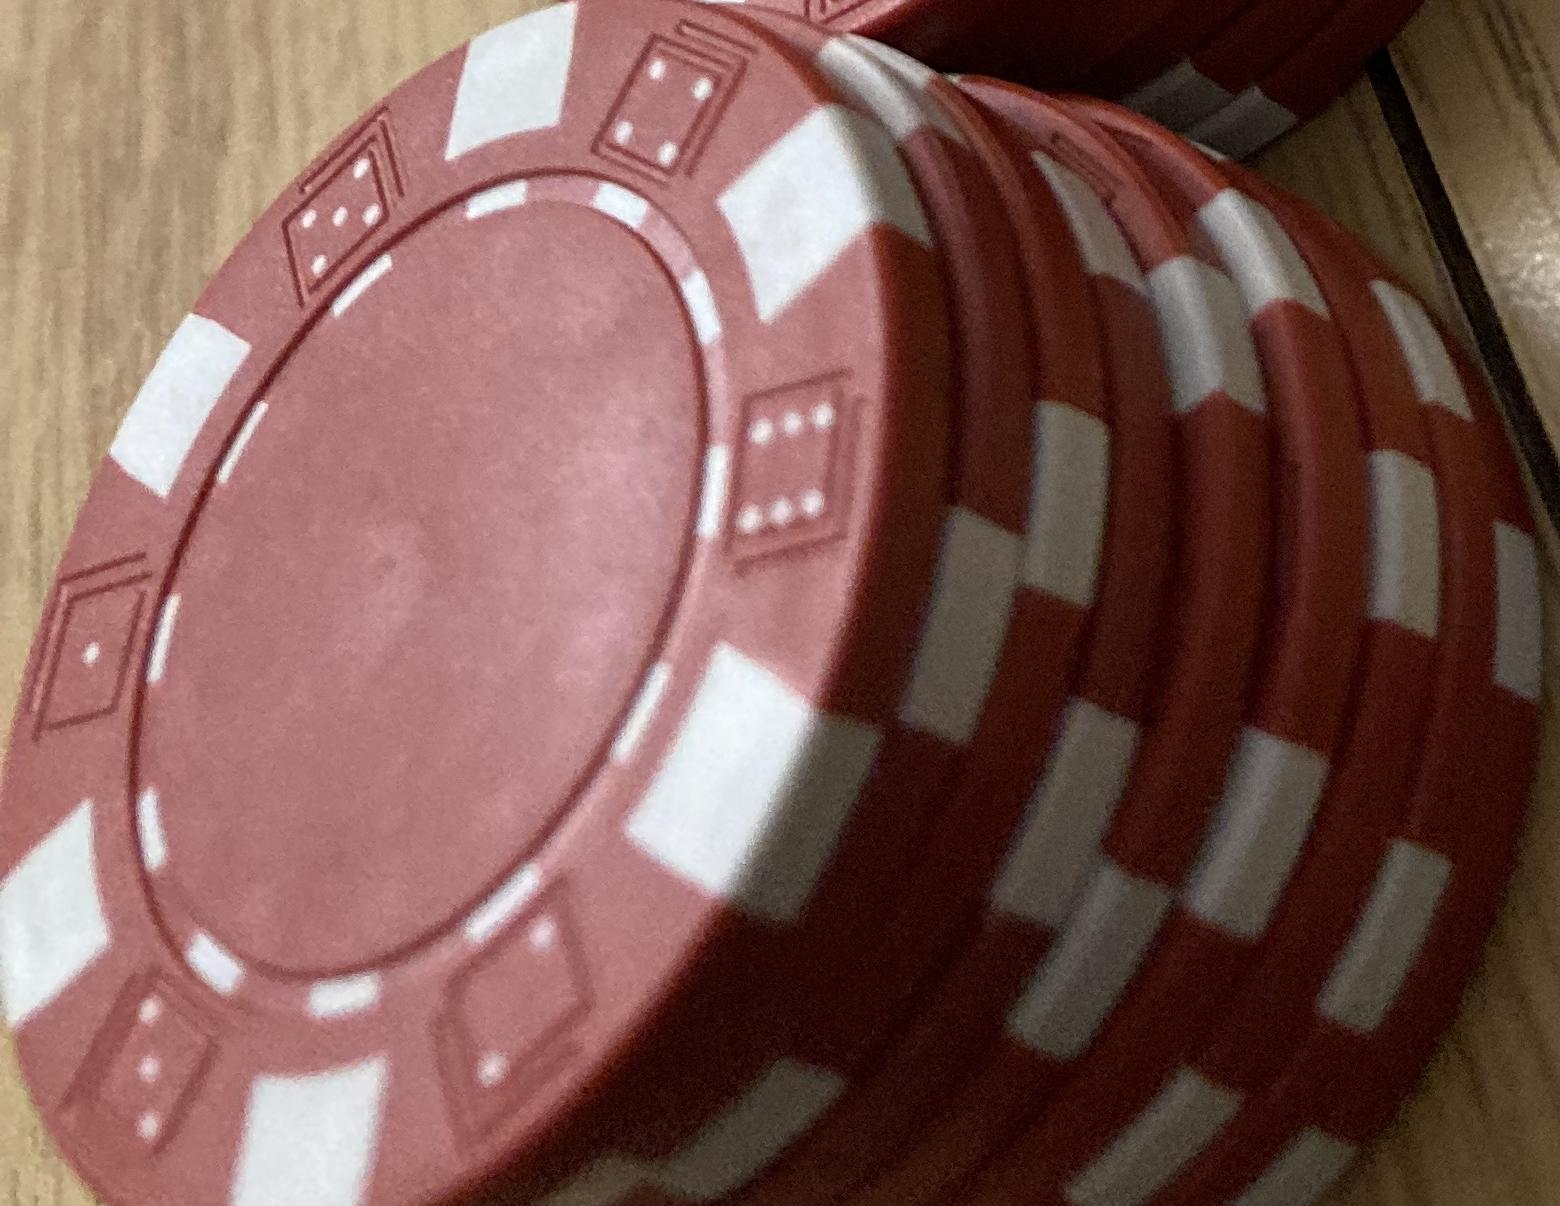Chip: (1, 1, 1560, 1206)
